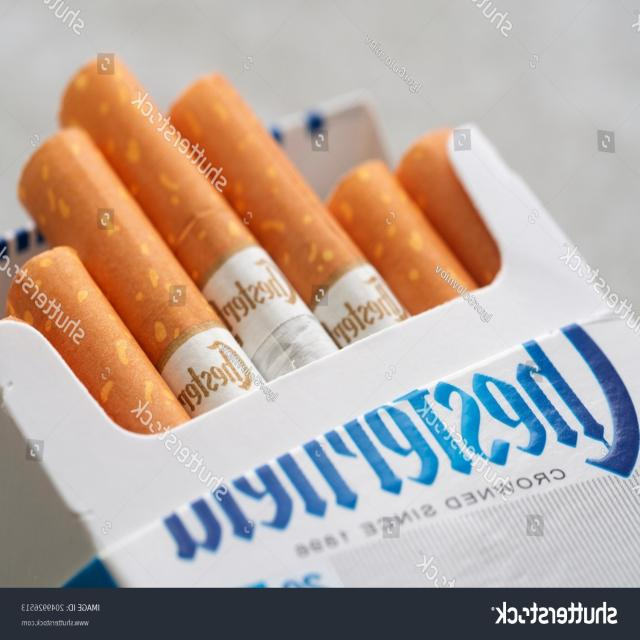chesterfield: (3, 60, 629, 588)
